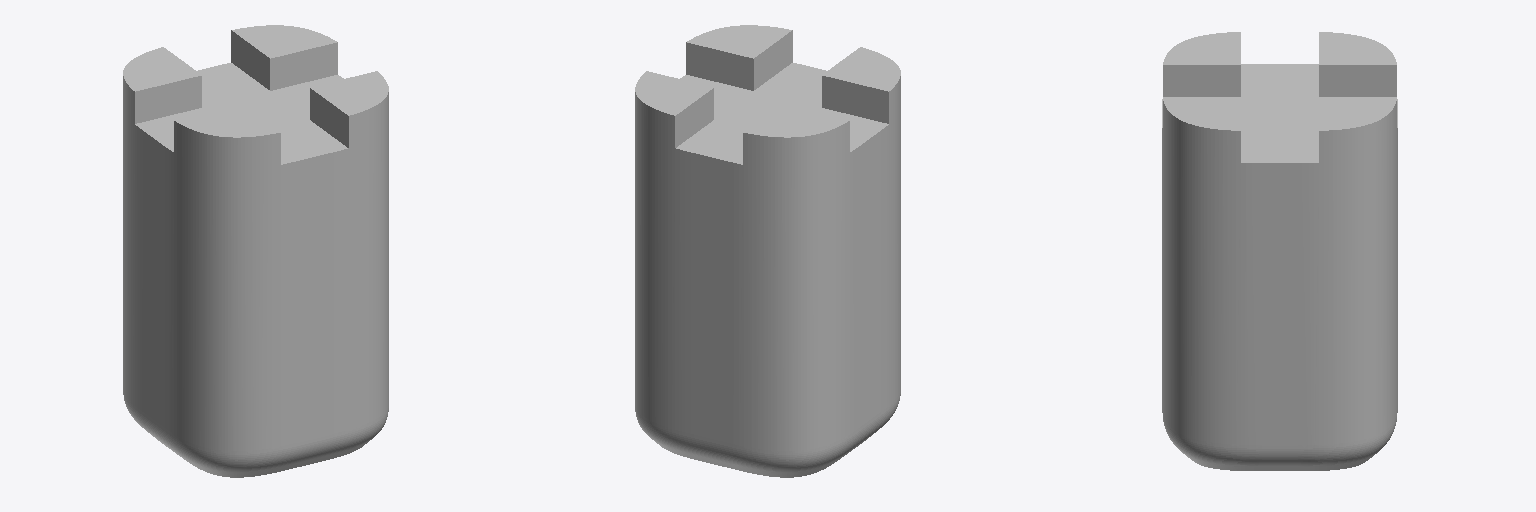
Rendered from 05_rook.obj.
3 renders of one model, left to right at view 1: azimuth 30°, elevation 25°; view 2: azimuth 150°, elevation 25°; view 3: azimuth 270°, elevation 25°, orthographic.
Visible parts, largest first — view 1: Rook_-_x2pcs_by_colour_-_001; view 2: Rook_-_x2pcs_by_colour_-_001; view 3: Rook_-_x2pcs_by_colour_-_001.
Part boxes in pixels (x1,y1,x2,y2): Rook_-_x2pcs_by_colour_-_001: (123, 25, 388, 477); Rook_-_x2pcs_by_colour_-_001: (635, 25, 900, 477); Rook_-_x2pcs_by_colour_-_001: (1162, 32, 1397, 470).
Bounding box in the file's own units: 16.5 × 27 × 16.5.